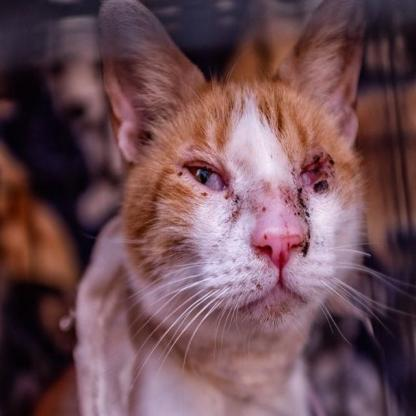cat: (94, 0, 366, 416)
injured: (308, 149, 346, 207)
